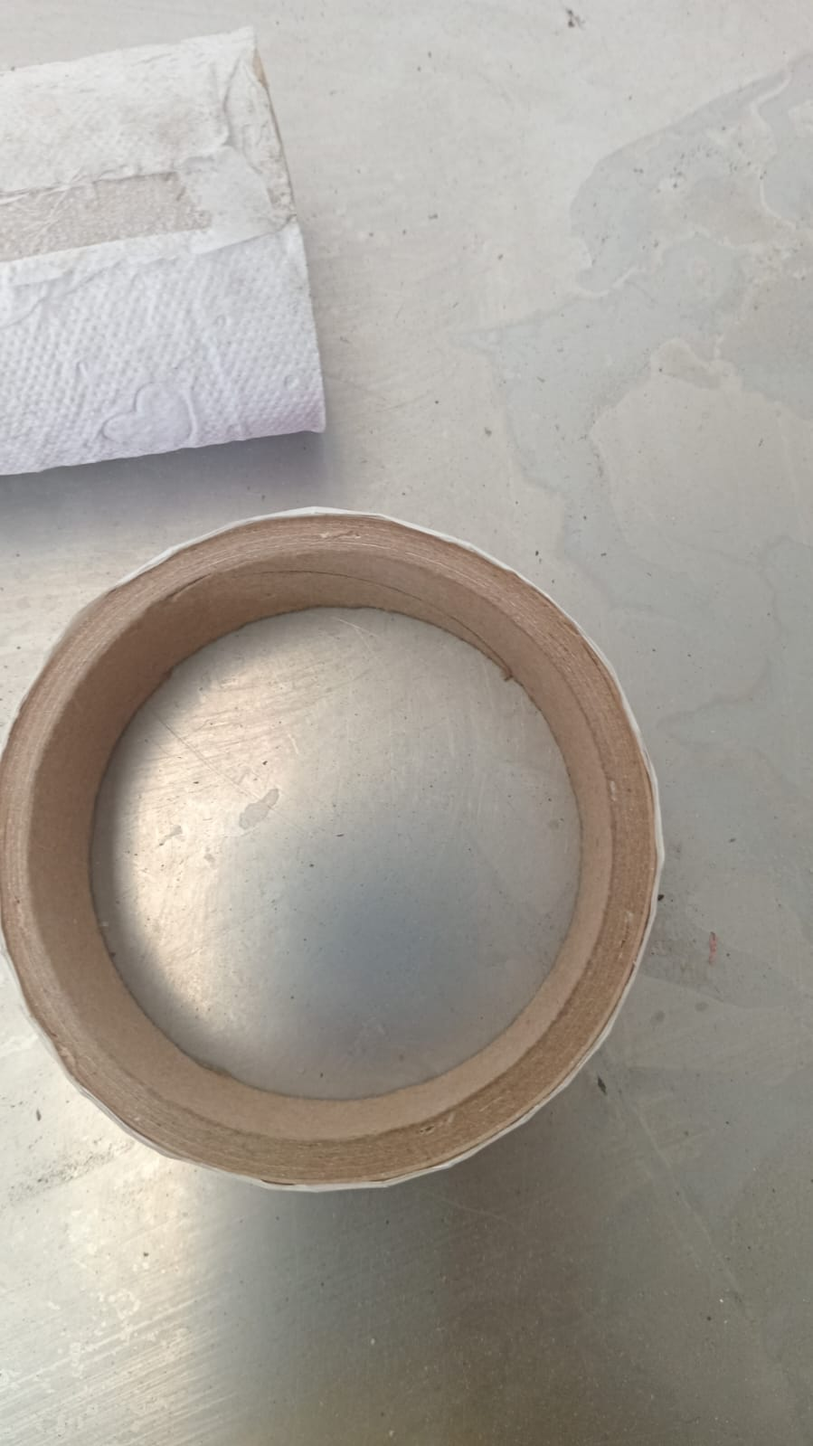Carton: (4, 506, 670, 1198)
